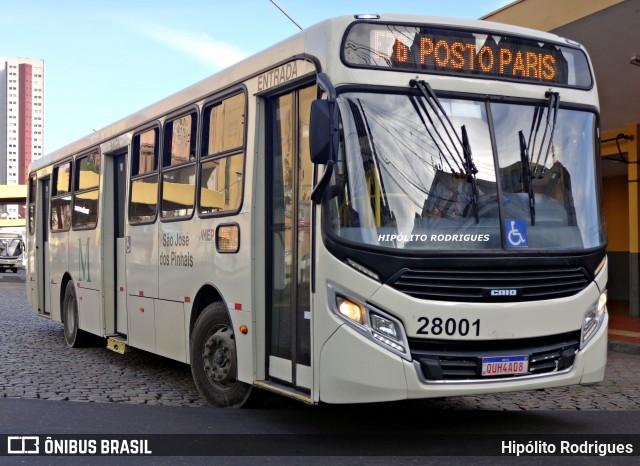POSTO PARIS: (415, 32, 560, 84)
